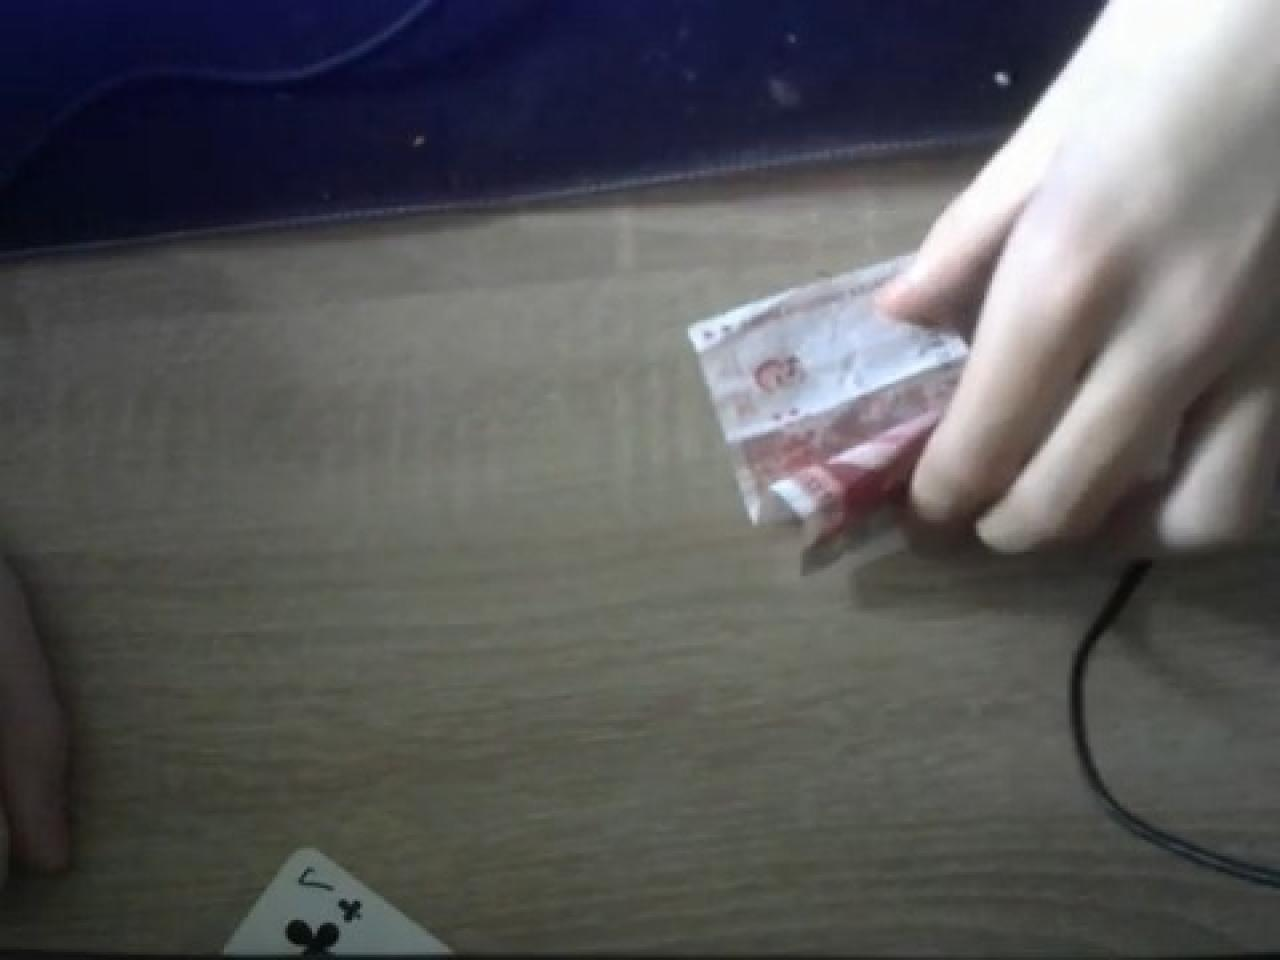5leva: (685, 256, 976, 568)
